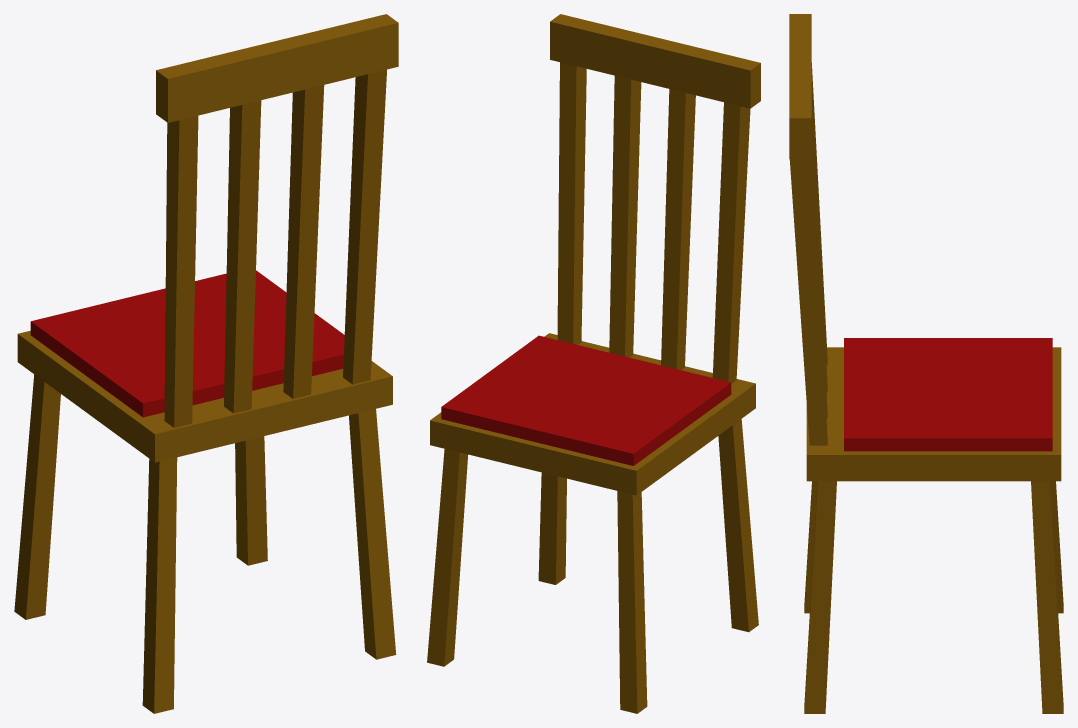
Rendered from cafeChair.fbx.
3 renders of one model, left to right at view 1: azimuth 30°, elevation 25°; view 2: azimuth 150°, elevation 25°; view 3: azimuth 270°, elevation 25°, orthographic. The views are drawn at different scales.
Visible parts, largest first — view 1: cafeChair; view 2: cafeChair; view 3: cafeChair.
Boxes of the visible parts, bbox=[...] form: cafeChair: bbox=[14, 14, 398, 713]; cafeChair: bbox=[427, 14, 760, 713]; cafeChair: bbox=[789, 14, 1063, 713].
Bounding box in the file's own units: 143 × 361 × 151.
